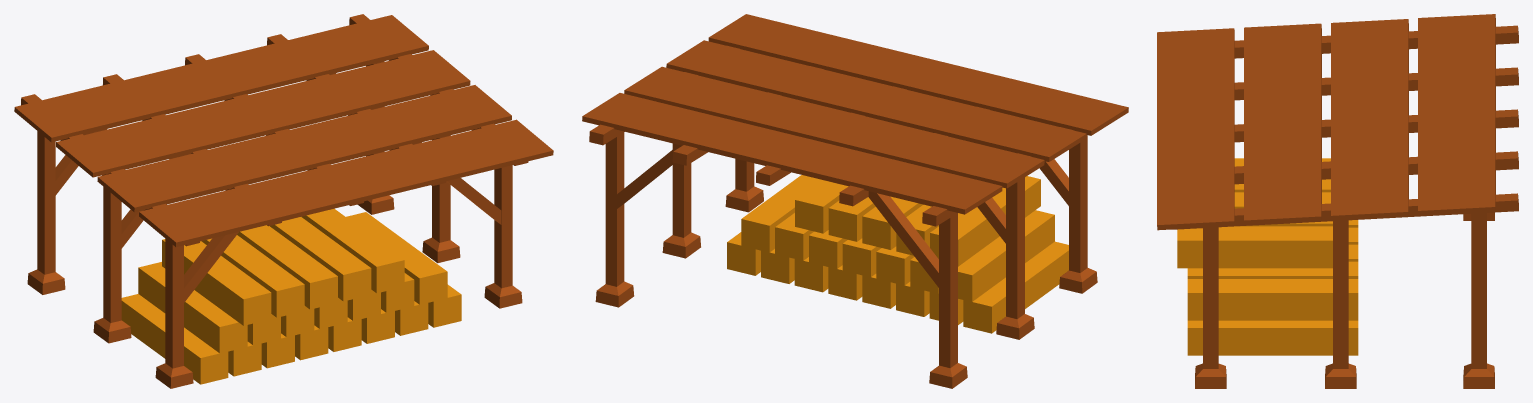
File: House_04.FBX
The picture shows the model from 3 angles, left to right: view 1: azimuth 30°, elevation 25°; view 2: azimuth 150°, elevation 25°; view 3: azimuth 270°, elevation 25°; orthographic projection. The views are drawn at different scales.
Parts seen in each view (by area): view 1: House_04; view 2: House_04; view 3: House_04.
Boxes of the visible parts, <box> form: House_04: <box>14,14,553,388</box>; House_04: <box>582,14,1128,388</box>; House_04: <box>1157,14,1518,388</box>.
Bounding box in the file's own units: 4.96 × 2.26 × 3.93.
1 material, 1 textured.
